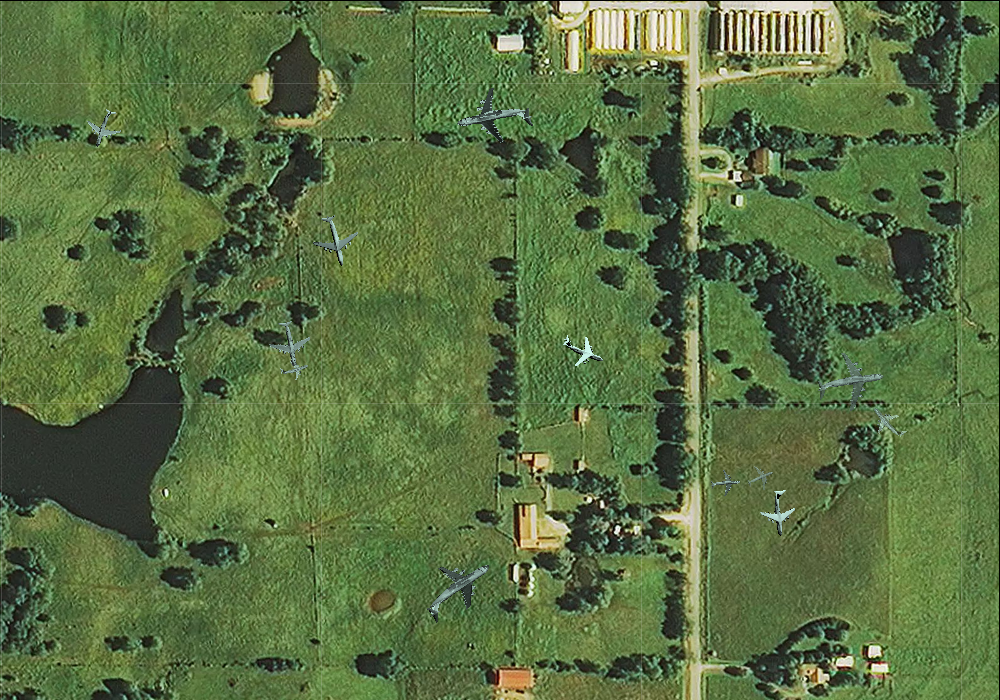plane: (408, 542, 509, 639), (450, 77, 538, 160), (812, 346, 889, 419), (304, 209, 364, 271), (556, 324, 611, 376), (863, 395, 915, 448), (264, 317, 315, 370), (756, 487, 803, 538), (79, 103, 127, 152), (742, 460, 778, 495), (276, 352, 311, 385), (710, 468, 741, 499)
